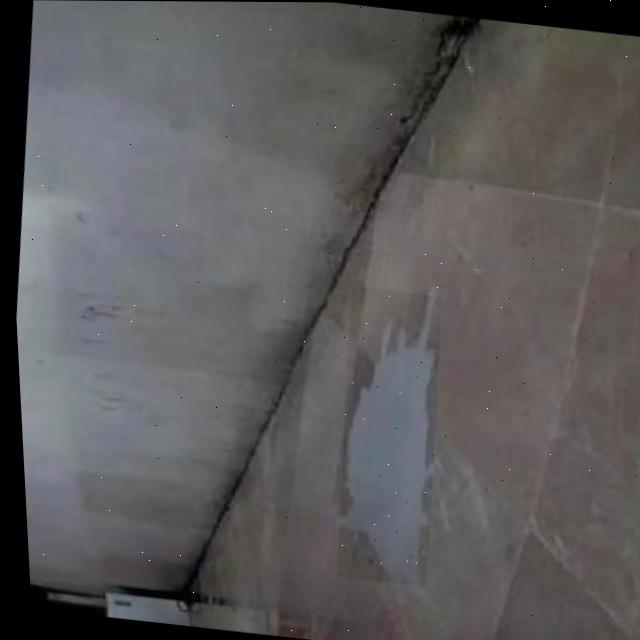spillage: (333, 294, 433, 584)
